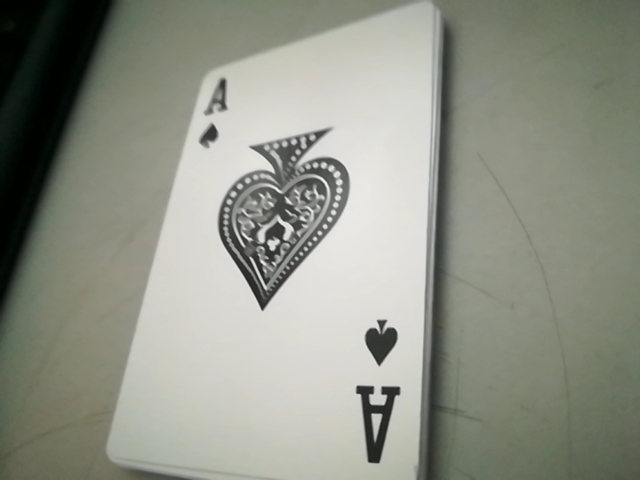ht a: (187, 68, 232, 162)
